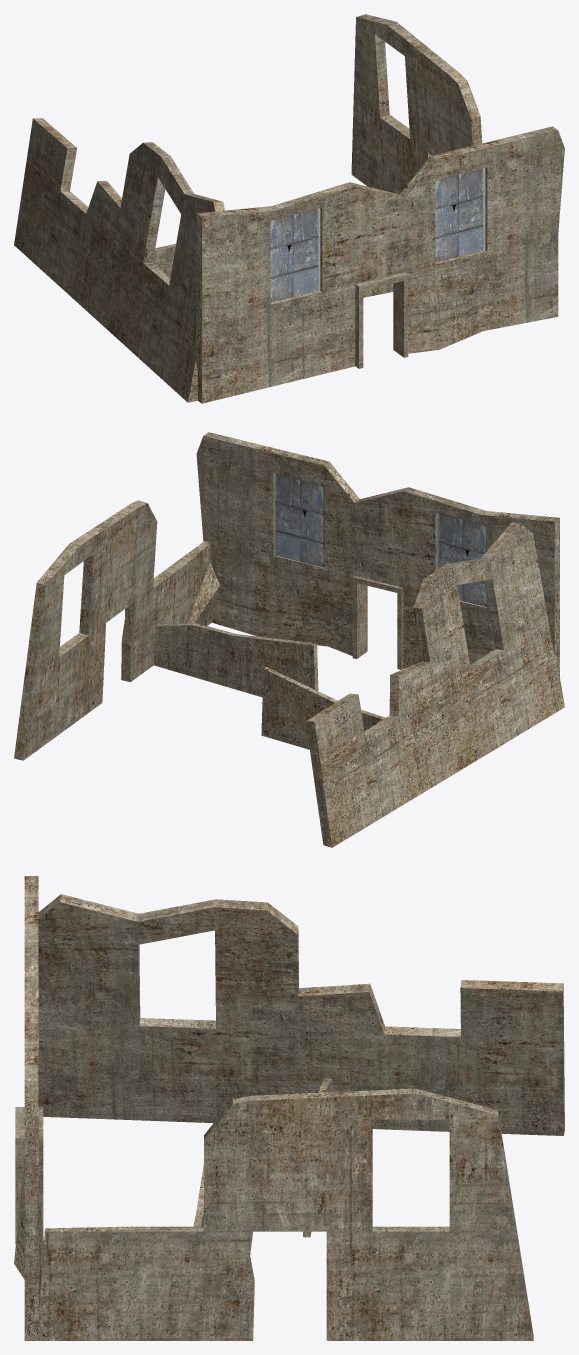
Rendered from building_destroyed_02.fbx.
3 views of the same model, one above another, from view 1: azimuth 30°, elevation 25°; view 2: azimuth 150°, elevation 25°; view 3: azimuth 270°, elevation 25° (orthographic). The views are drawn at different scales.
Visible parts, largest first — view 1: building_destroyed_02; view 2: building_destroyed_02; view 3: building_destroyed_02.
Part boxes in pixels (<box>): building_destroyed_02: <box>14,14,564,403</box>; building_destroyed_02: <box>14,432,564,847</box>; building_destroyed_02: <box>14,876,564,1340</box>.
Bounding box in the file's own units: 11.75 × 5.63 × 11.67.
